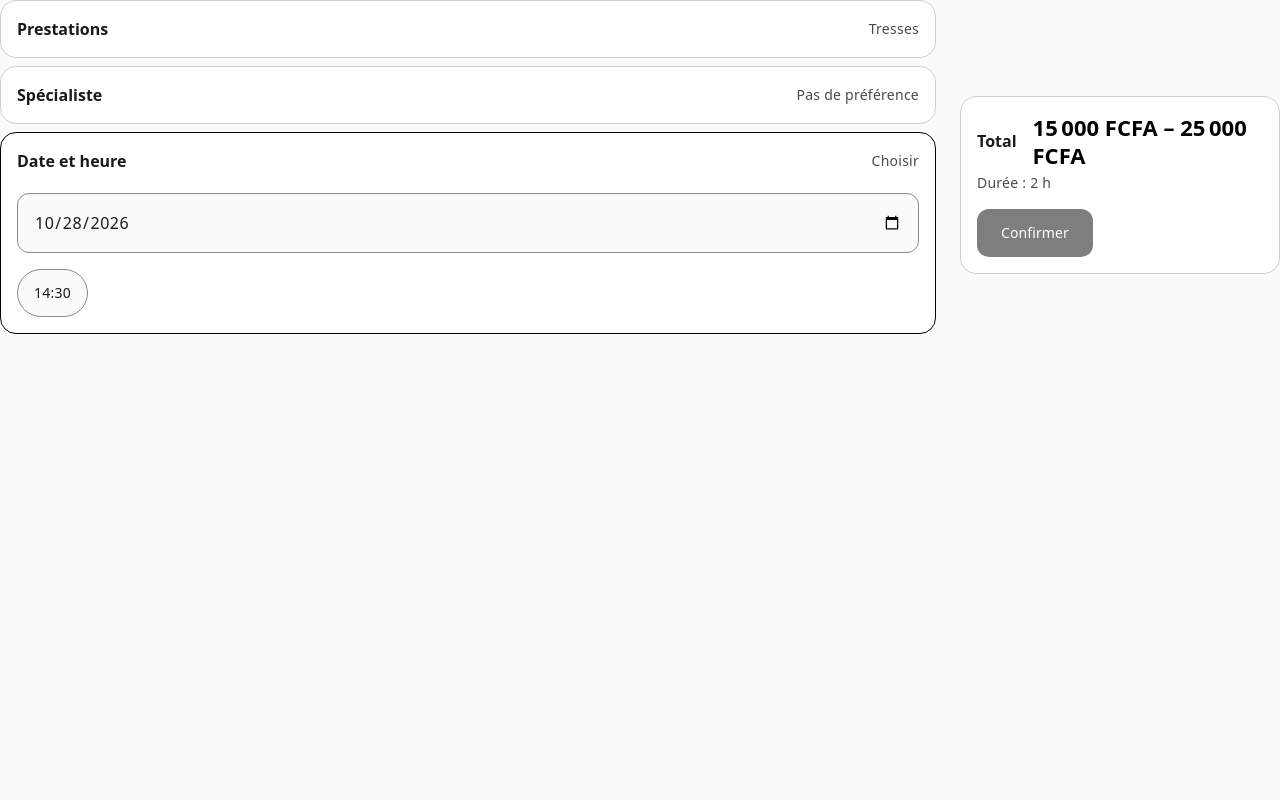
« Confirmer la réservation » (the client) › the answer lost once: asked again with the same key → « Réservation envoyée ✓ », WITH the deposit
Click the button "14:30" at (52,293), box x1=17 y1=269 x2=88 y2=317
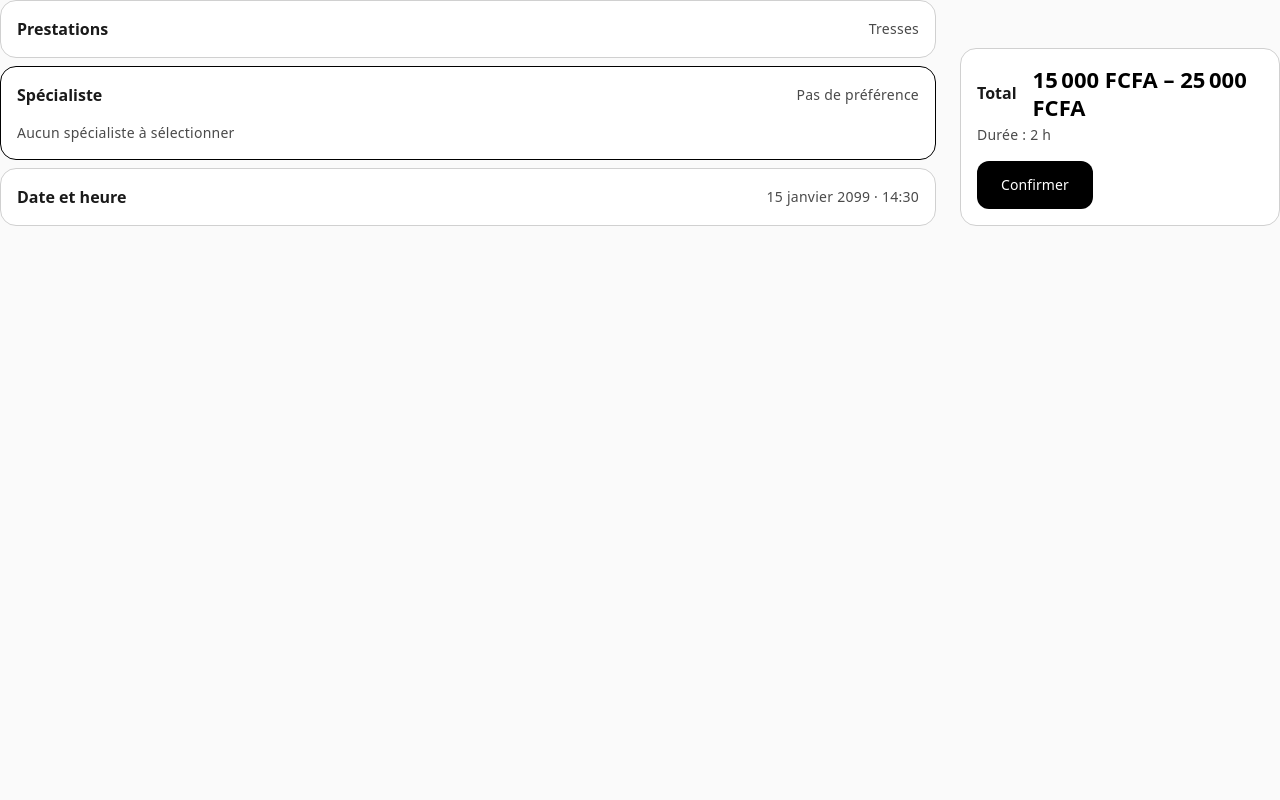
Click the button "Confirmer" at (1035,185), box x1=977 y1=161 x2=1093 y2=209
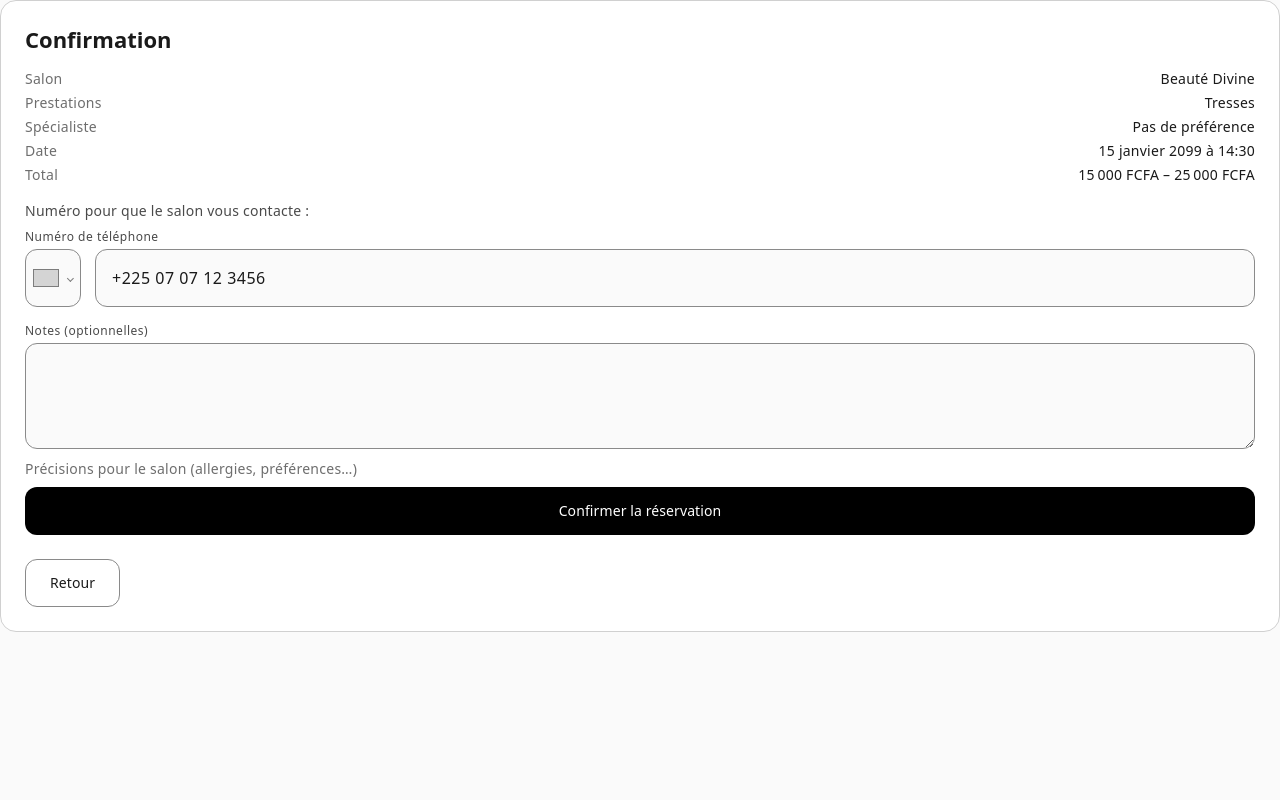
Expected: the field labelled "Numéro de téléphone" is shown, x1=95 y1=249 x2=1255 y2=307
Click the button "Confirmer la réservation" at (640,511), box x1=25 y1=487 x2=1255 y2=535
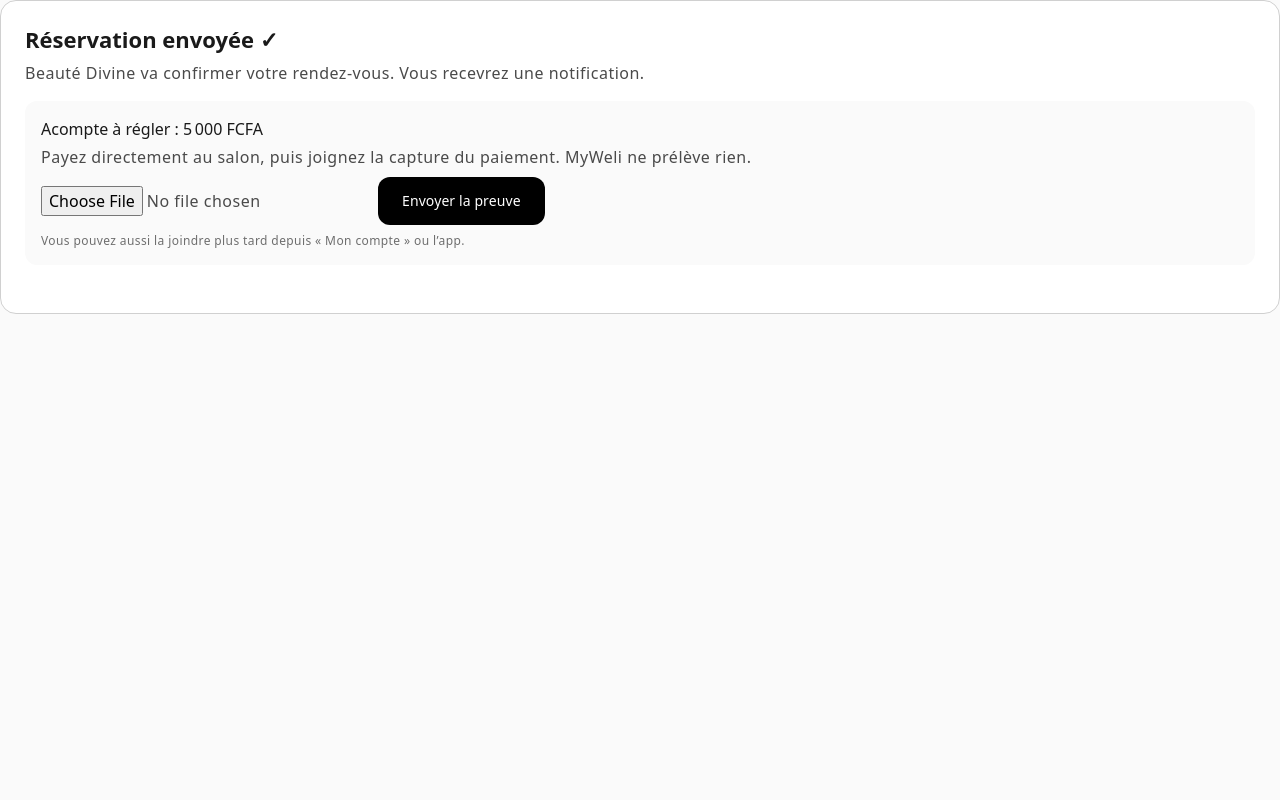
Expected: the heading "Réservation envoyée ✓" is shown, x1=25 y1=24 x2=278 y2=54
Expected: the file field named "Capture du paiement" is shown, x1=41 y1=186 x2=370 y2=216
